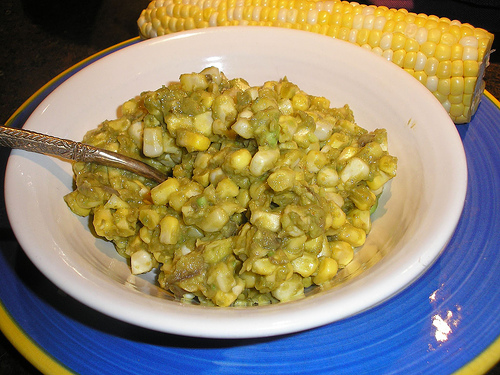corn: (138, 0, 497, 121)
